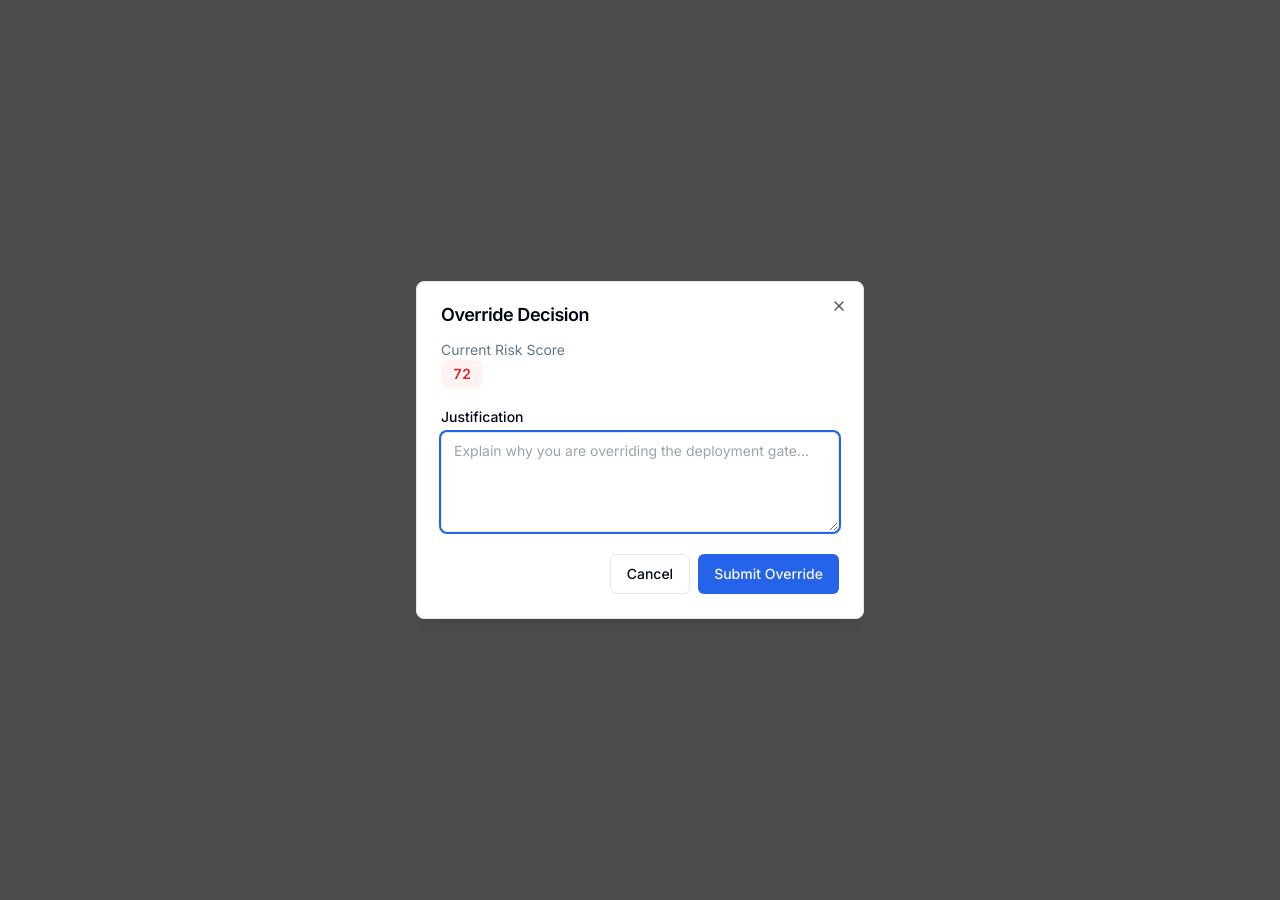
Test: OverrideDialog › shows validation error when submitted without justification
What coordinates should you click on to do the following:
click the button "Submit Override"
I would click on:
 (769, 574)
Its box is [698,554,839,594].
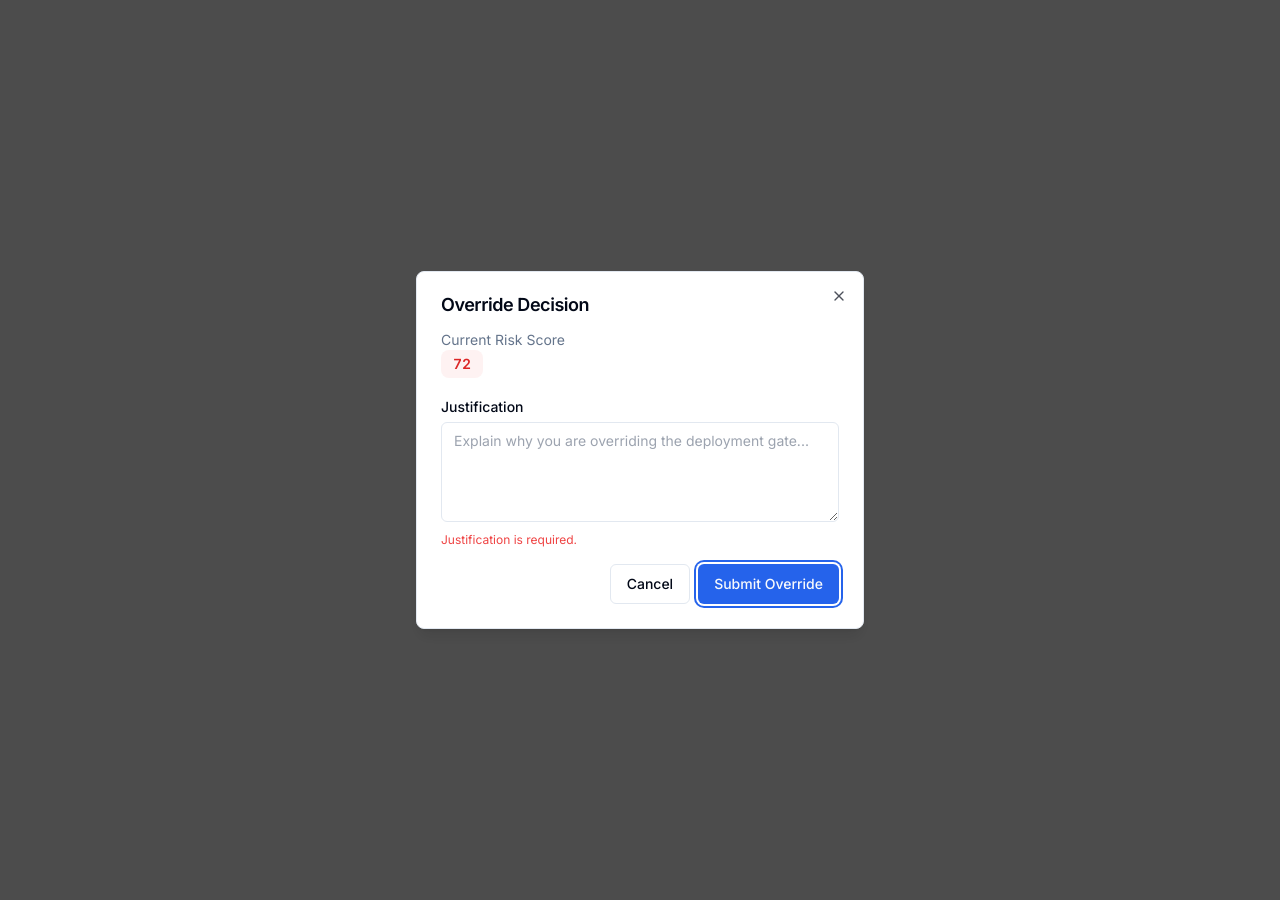
Check: the text "Justification is required." is shown, box [441,532,577,547]
